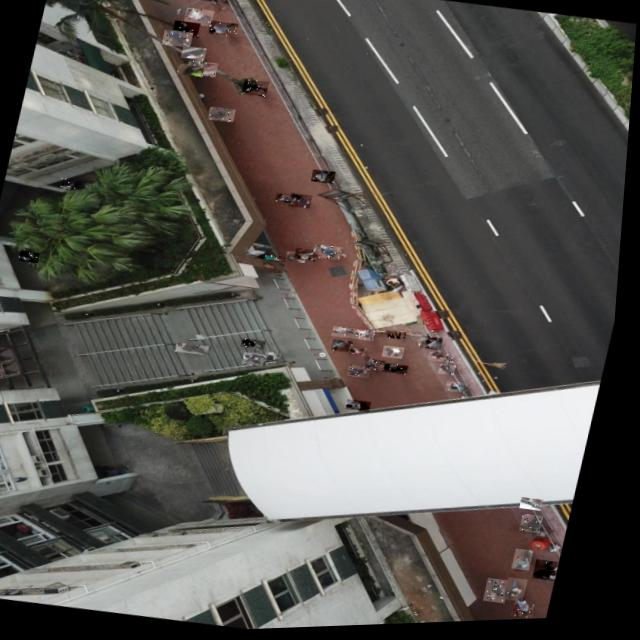Person: (493, 580, 519, 607), (187, 59, 220, 79), (184, 7, 215, 28), (162, 29, 194, 49), (513, 580, 537, 606), (541, 562, 568, 585), (172, 20, 201, 40), (520, 601, 547, 622), (243, 79, 271, 99), (208, 21, 239, 39), (521, 551, 543, 575), (180, 342, 215, 357), (209, 106, 238, 124), (528, 517, 552, 537), (181, 45, 208, 62), (247, 352, 274, 369), (336, 327, 365, 342), (291, 194, 316, 211), (322, 246, 347, 263), (178, 63, 206, 78), (314, 170, 339, 186), (352, 400, 378, 415), (425, 338, 449, 354), (388, 364, 415, 378), (336, 341, 359, 357), (434, 354, 462, 367), (277, 193, 301, 208), (353, 366, 377, 381), (388, 347, 411, 362), (528, 500, 551, 515), (246, 339, 272, 352), (298, 249, 322, 263), (357, 330, 381, 344), (63, 177, 85, 192), (369, 359, 392, 373), (452, 383, 474, 397), (23, 249, 44, 263), (290, 252, 311, 266), (317, 247, 339, 260), (264, 255, 293, 264), (269, 352, 288, 365), (390, 332, 412, 343), (354, 348, 374, 359), (444, 366, 462, 378), (188, 0, 220, 4), (371, 367, 384, 374)
